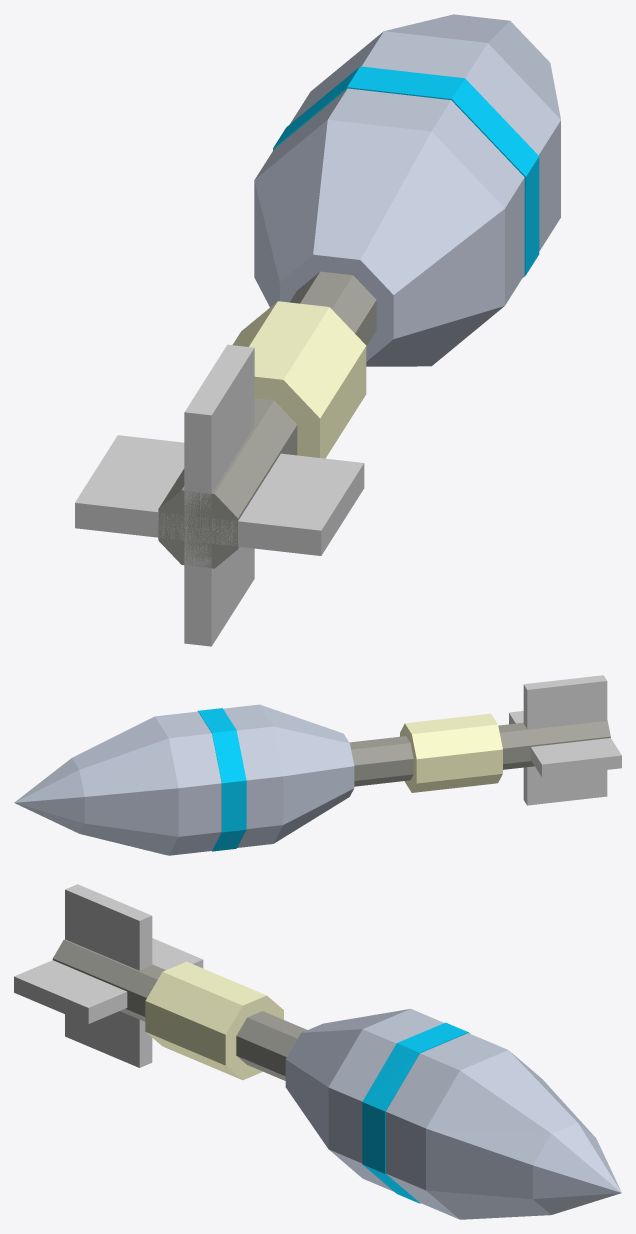
The model's file is ce_ammo_mortar_emp_a.obj.
3 views of the same model, one above another, from view 1: azimuth 30°, elevation 25°; view 2: azimuth 150°, elevation 25°; view 3: azimuth 270°, elevation 25° (orthographic). The views are drawn at different scales.
Visible parts, largest first — view 1: ce_ammo_mortar_emp_a_2, ce_ammo_mortar_emp_a_8, ce_ammo_mortar_emp_a_9, ce_ammo_mortar_emp_a_1, ce_ammo_mortar_emp_a_0, ce_ammo_mortar_emp_a_5, ce_ammo_mortar_emp_a_3, ce_ammo_mortar_emp_a_4, ce_ammo_mortar_emp_a_6; view 2: ce_ammo_mortar_emp_a_6, ce_ammo_mortar_emp_a_2, ce_ammo_mortar_emp_a_1, ce_ammo_mortar_emp_a_9, ce_ammo_mortar_emp_a_5, ce_ammo_mortar_emp_a_0, ce_ammo_mortar_emp_a_3, ce_ammo_mortar_emp_a_4, ce_ammo_mortar_emp_a_8, ce_ammo_mortar_emp_a_7; view 3: ce_ammo_mortar_emp_a_6, ce_ammo_mortar_emp_a_1, ce_ammo_mortar_emp_a_9, ce_ammo_mortar_emp_a_5, ce_ammo_mortar_emp_a_3, ce_ammo_mortar_emp_a_0, ce_ammo_mortar_emp_a_7, ce_ammo_mortar_emp_a_2, ce_ammo_mortar_emp_a_8, ce_ammo_mortar_emp_a_4.
Part boxes in pixels (<box>): ce_ammo_mortar_emp_a_2: <box>254,119,504,366</box>; ce_ammo_mortar_emp_a_8: <box>75,435,364,555</box>; ce_ammo_mortar_emp_a_9: <box>184,344,254,646</box>; ce_ammo_mortar_emp_a_1: <box>232,301,366,458</box>; ce_ammo_mortar_emp_a_0: <box>158,271,376,568</box>; ce_ammo_mortar_emp_a_5: <box>290,31,560,250</box>; ce_ammo_mortar_emp_a_3: <box>255,88,524,305</box>; ce_ammo_mortar_emp_a_4: <box>273,66,539,277</box>; ce_ammo_mortar_emp_a_6: <box>384,14,560,119</box>; ce_ammo_mortar_emp_a_6: <box>72,716,178,855</box>; ce_ammo_mortar_emp_a_2: <box>260,704,354,843</box>; ce_ammo_mortar_emp_a_1: <box>400,713,502,792</box>; ce_ammo_mortar_emp_a_9: <box>523,675,607,805</box>; ce_ammo_mortar_emp_a_5: <box>155,711,221,855</box>; ce_ammo_mortar_emp_a_0: <box>349,720,610,786</box>; ce_ammo_mortar_emp_a_3: <box>223,704,283,847</box>; ce_ammo_mortar_emp_a_4: <box>197,708,246,851</box>; ce_ammo_mortar_emp_a_8: <box>509,711,621,777</box>; ce_ammo_mortar_emp_a_7: <box>14,758,84,833</box>; ce_ammo_mortar_emp_a_6: <box>426,1050,595,1219</box>; ce_ammo_mortar_emp_a_1: <box>145,961,283,1080</box>; ce_ammo_mortar_emp_a_9: <box>65,884,152,1067</box>; ce_ammo_mortar_emp_a_5: <box>386,1033,507,1219</box>; ce_ammo_mortar_emp_a_3: <box>328,1009,443,1191</box>; ce_ammo_mortar_emp_a_0: <box>52,939,307,1080</box>; ce_ammo_mortar_emp_a_7: <box>533,1122,621,1214</box>; ce_ammo_mortar_emp_a_2: <box>285,1009,409,1148</box>; ce_ammo_mortar_emp_a_8: <box>14,938,203,1023</box>; ce_ammo_mortar_emp_a_4: <box>362,1022,469,1203</box>.
Bounding box in the file's own units: 0.7495 × 0.2052 × 0.7495.
